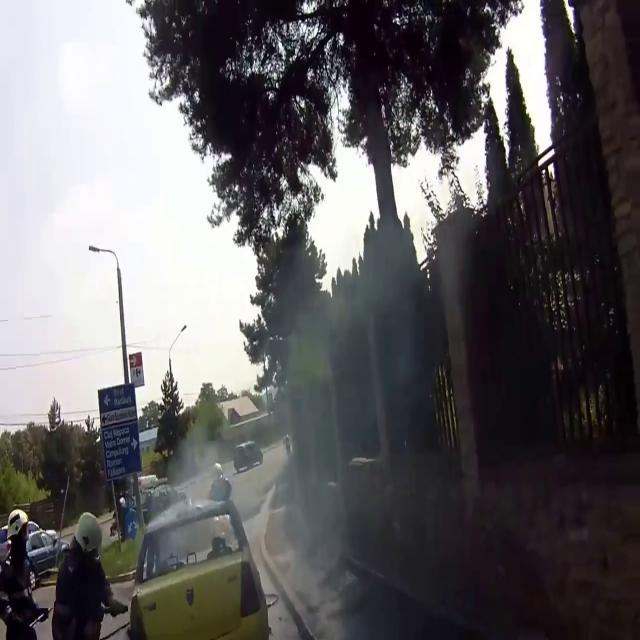Fire: (478, 0, 556, 162)
Smoke: (242, 230, 474, 640)
